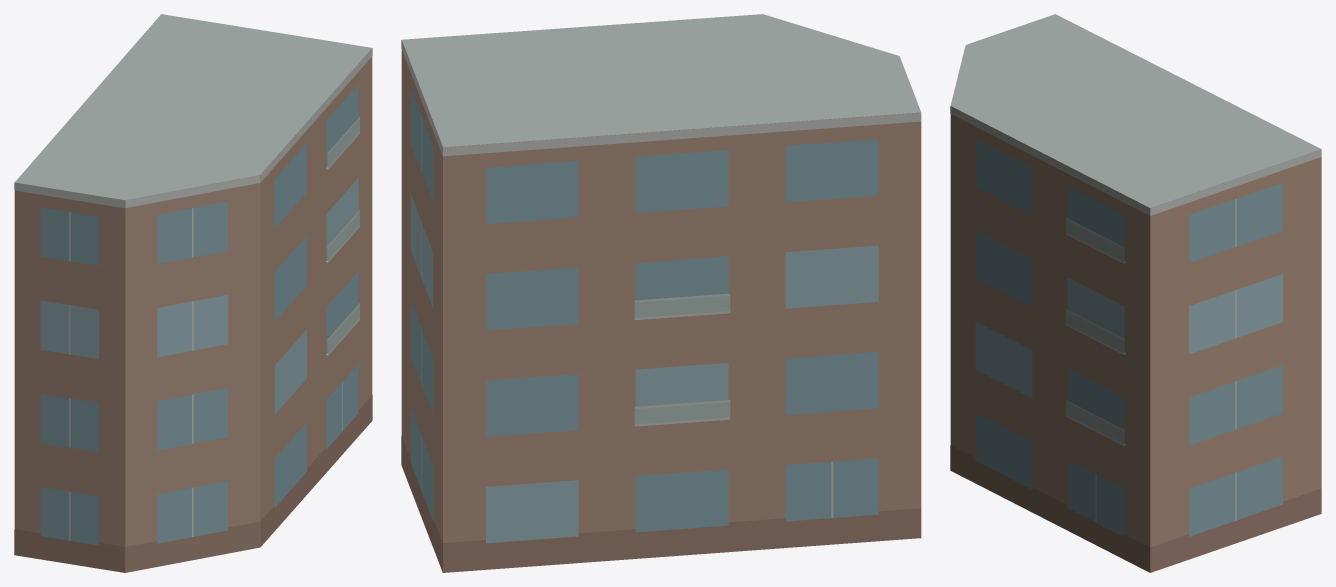
File: survey-upis-32976771.glb
3 views of the same model, side by side, from view 1: azimuth 30°, elevation 25°; view 2: azimuth 150°, elevation 25°; view 3: azimuth 270°, elevation 25° (orthographic). The views are drawn at different scales.
Visible parts, largest first — view 1: survey-upis-32976771.tmp; view 2: survey-upis-32976771.tmp; view 3: survey-upis-32976771.tmp.
Part boxes in pixels (x1,y1,x2,y2): survey-upis-32976771.tmp: (14,14,372,572); survey-upis-32976771.tmp: (401,14,921,572); survey-upis-32976771.tmp: (950,14,1321,572).
Bounding box in the file's own units: 13.02 × 11.4 × 10.52.
